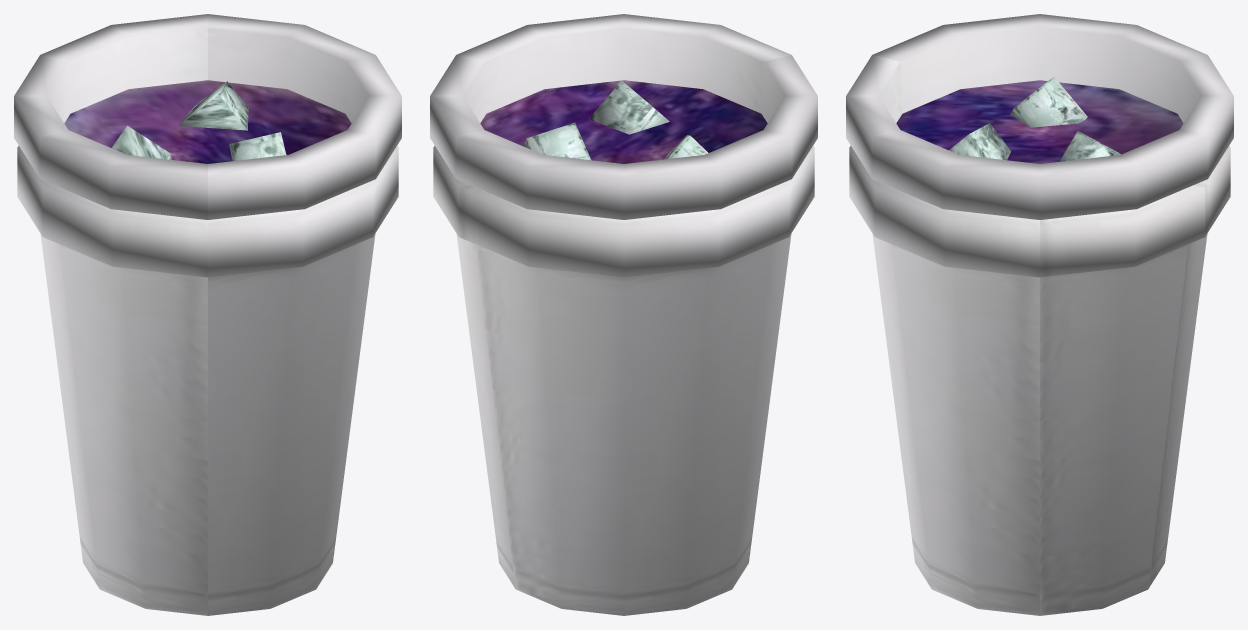
File: lean.FBX
3 views of the same model, side by side, from view 1: azimuth 30°, elevation 25°; view 2: azimuth 150°, elevation 25°; view 3: azimuth 270°, elevation 25° (orthographic).
Visible parts, largest first — view 1: lean; view 2: lean; view 3: lean.
Part boxes in pixels (bbox=[...]): lean: bbox=[14, 14, 401, 615]; lean: bbox=[430, 14, 817, 615]; lean: bbox=[846, 14, 1233, 615].
Size of the model in its own units: 5.86 by 7.8 by 5.86.
